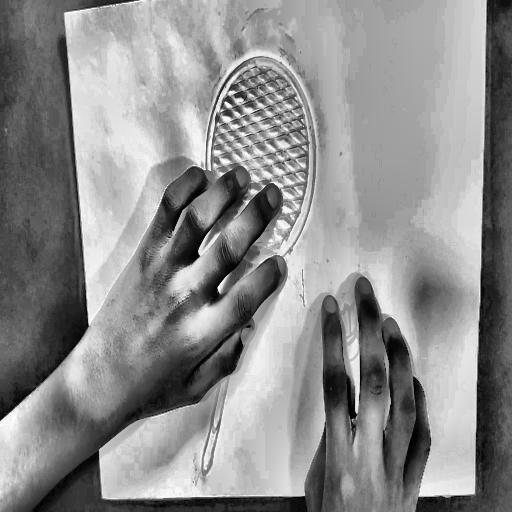badminton: (163, 28, 400, 485)
bottom_left: (99, 490, 106, 502)
bottom_right: (471, 486, 480, 500)
top_left: (61, 7, 69, 19)
